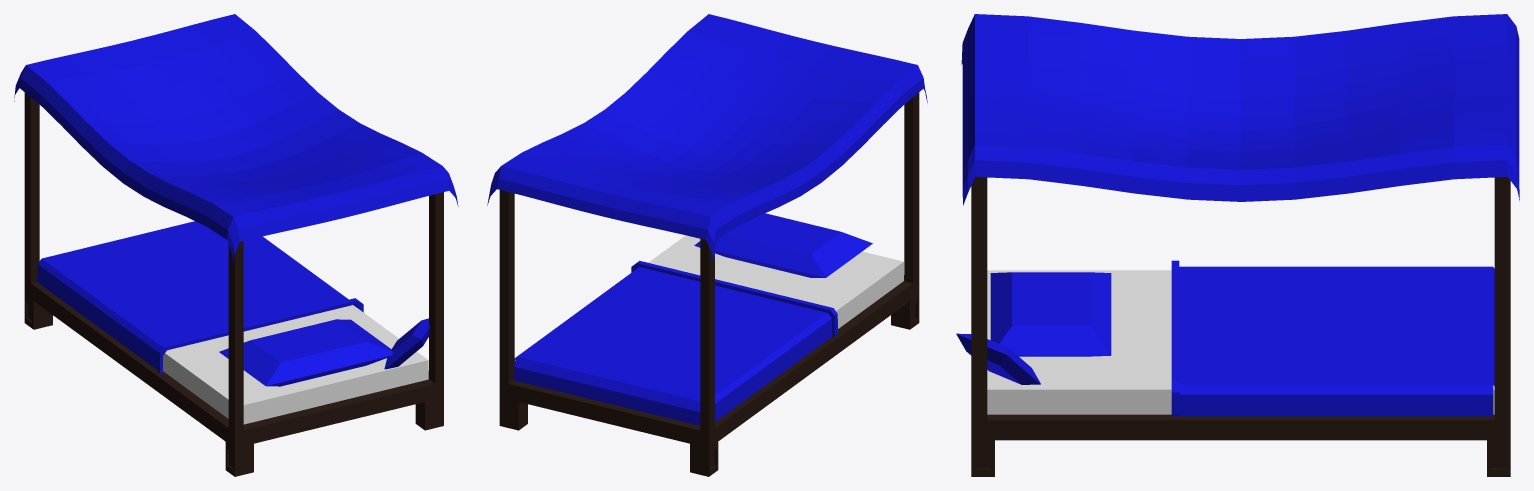
File: Bed.fbx
3 views of the same model, side by side, from view 1: azimuth 30°, elevation 25°; view 2: azimuth 150°, elevation 25°; view 3: azimuth 270°, elevation 25° (orthographic). The views are drawn at different scales.
Visible parts, largest first — view 1: Grid.001; view 2: Grid.001; view 3: Grid.001.
Part boxes in pixels (x1,y1,x2,y2): Grid.001: (14, 14, 458, 476); Grid.001: (487, 14, 927, 476); Grid.001: (956, 14, 1519, 476).
Bounding box in the file's own units: 219 × 237 × 364.
